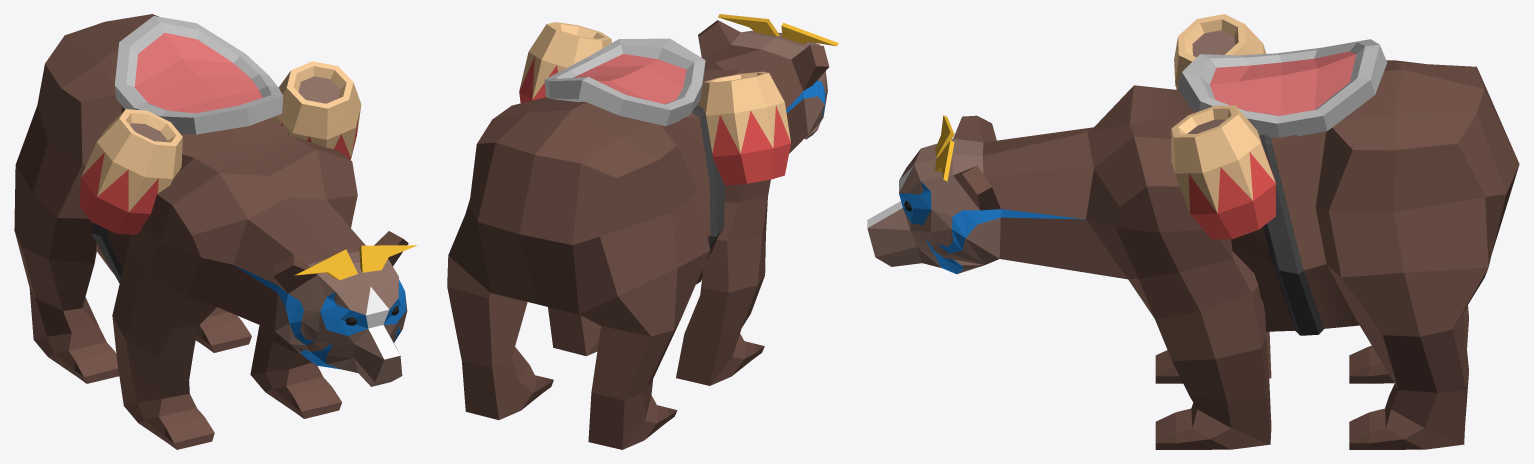
Rendered from animal_005.fbx.
The picture shows the model from 3 angles, left to right: view 1: azimuth 30°, elevation 25°; view 2: azimuth 150°, elevation 25°; view 3: azimuth 270°, elevation 25°; orthographic projection. The views are drawn at different scales.
Visible parts, largest first — view 1: animal.005; view 2: animal.005; view 3: animal.005.
Boxes of the visible parts, x1,y1,x2,y2 form: animal.005: (14, 14, 417, 449); animal.005: (447, 14, 838, 449); animal.005: (867, 14, 1519, 449).
Size of the model in its own units: 382 by 468 by 762.
1 material, 1 textured.
